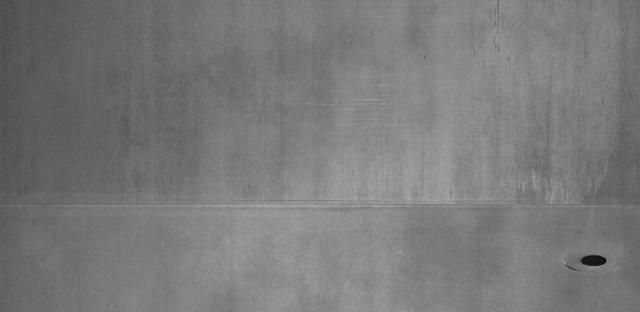punching_hole: (578, 250, 613, 270)
welding_line: (4, 190, 636, 218)
